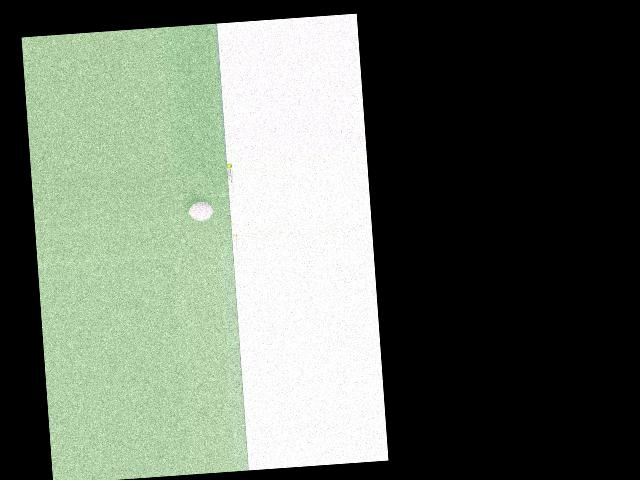egg: (188, 201, 213, 221)
